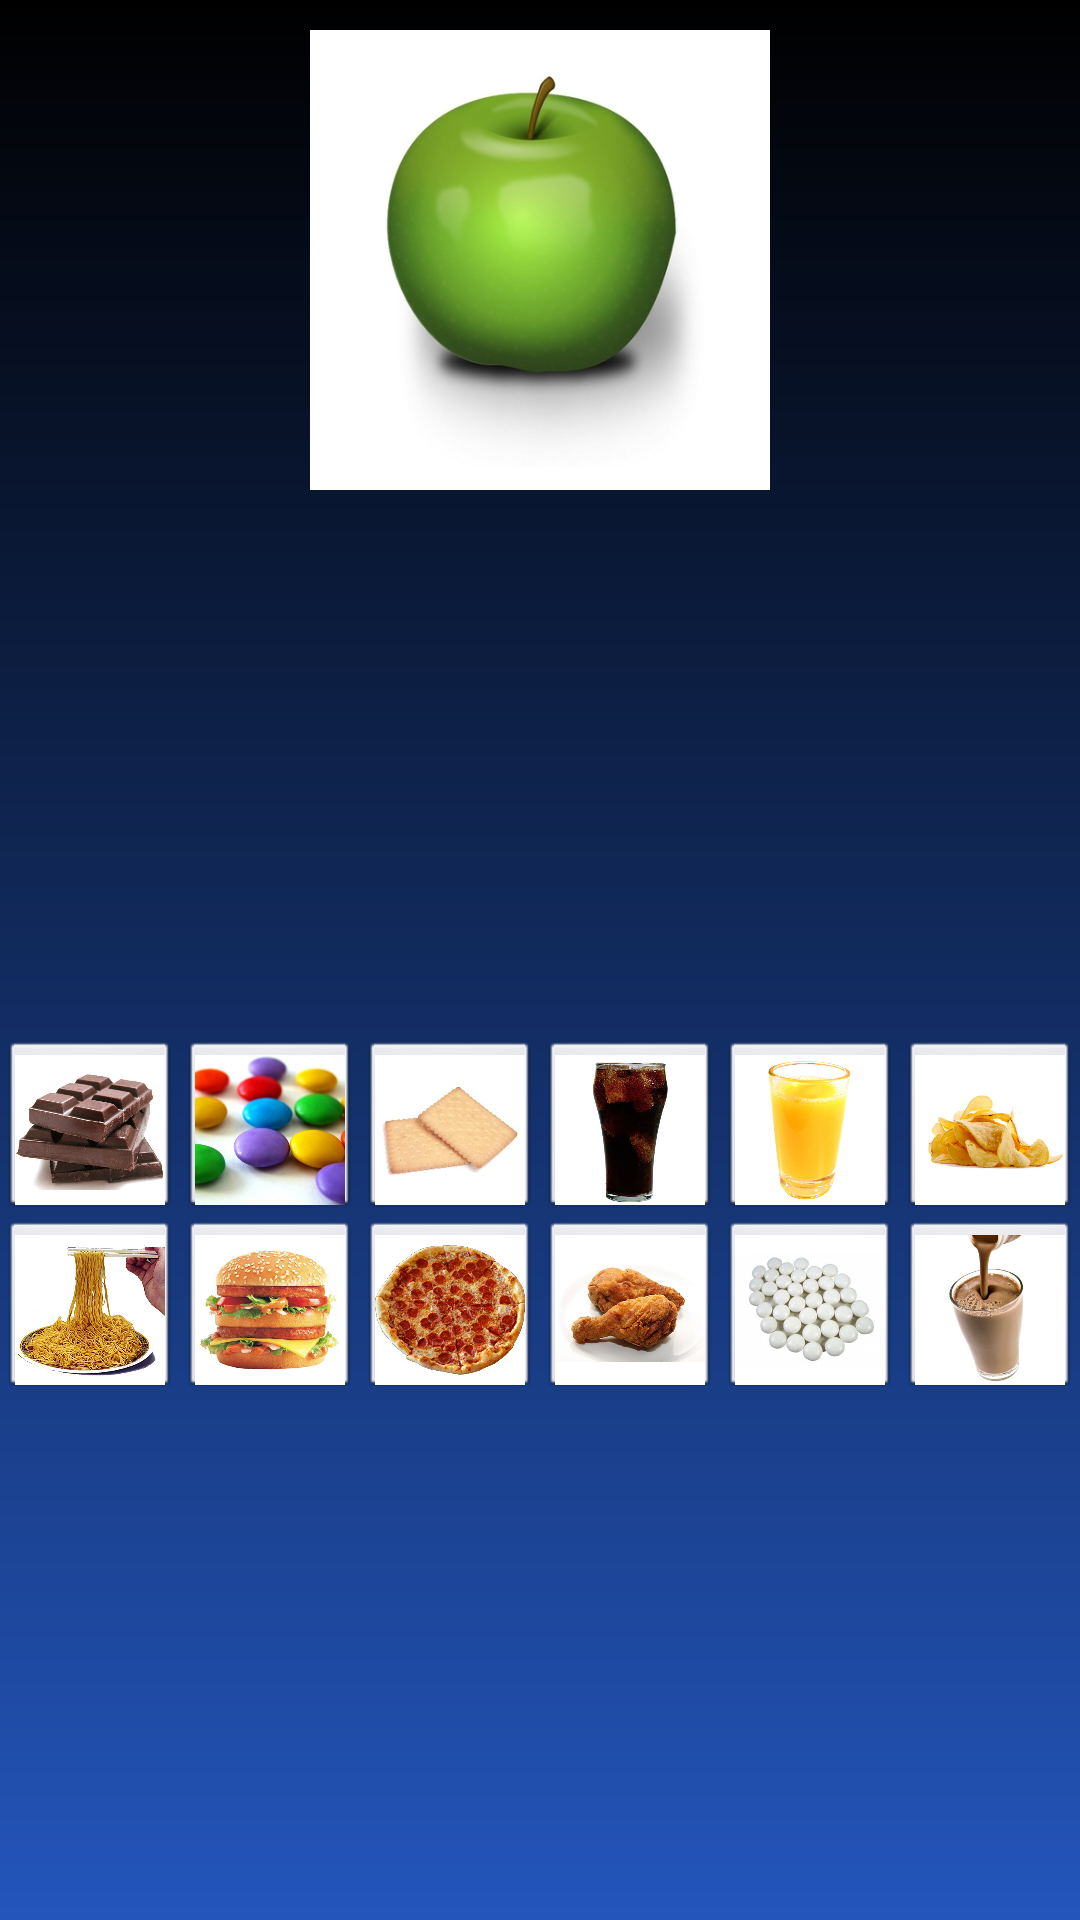

Where to tap for icons on this 1080w x 1920h app screen, as point (x, y):
biscuits: point (449, 1124)
burguer: point (269, 1304)
chicken: point (629, 1304)
chips: point (989, 1124)
chocolate: point (89, 1124)
chocolatedrink: point (989, 1304)
coke: point (629, 1124)
fanta: point (809, 1124)
mintcandy: point (809, 1304)
noodles: point (89, 1304)
pizza: point (449, 1304)
smarties: point (269, 1124)
